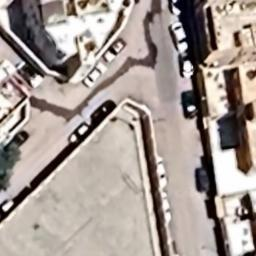SUV: (102, 36, 130, 64)
sedan: (168, 20, 192, 56), (81, 62, 108, 90)
unknown: (176, 88, 202, 122), (85, 98, 117, 124), (192, 164, 213, 194)
